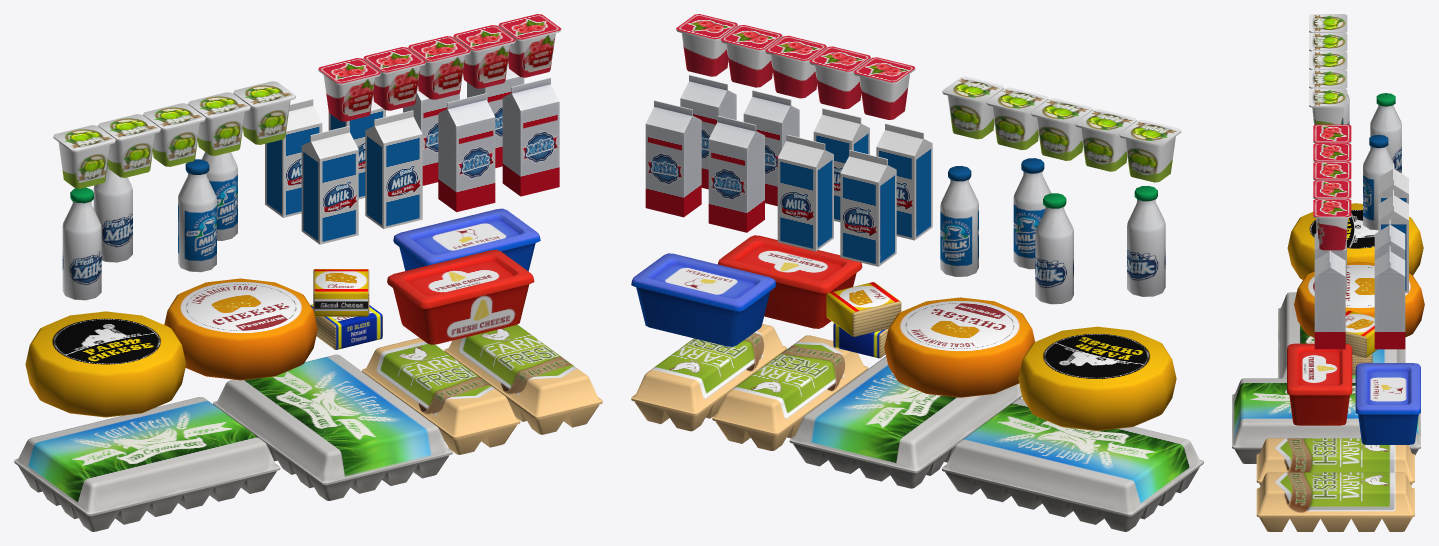
File: CommFoodStuffs02_1.FBX
3 renders of one model, left to right at view 1: azimuth 30°, elevation 25°; view 2: azimuth 150°, elevation 25°; view 3: azimuth 270°, elevation 25°, orthographic. The views are drawn at different scales.
Visible parts, largest first — view 1: CommFoodStuffs02_1; view 2: CommFoodStuffs02_1; view 3: CommFoodStuffs02_1.
Part boxes in pixels (box(x1,y1,x2,y2)): CommFoodStuffs02_1: box(14, 14, 602, 531); CommFoodStuffs02_1: box(631, 14, 1203, 531); CommFoodStuffs02_1: box(1232, 14, 1424, 531).
Size of what is drawn, in the model's own units: 1.62 by 1.13 by 0.6268.
